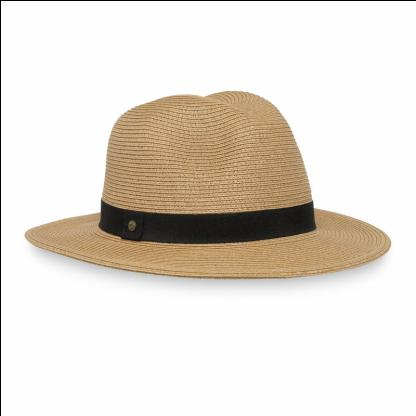hat: (20, 84, 394, 283)
